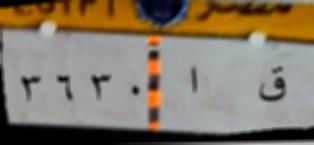0: (125, 80, 144, 105)
3: (17, 71, 43, 109), (88, 68, 113, 105)
6: (52, 71, 77, 110)
alif: (183, 61, 203, 102)
qaaf: (255, 63, 291, 111)
